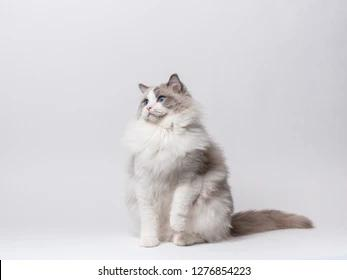ragdoll: (132, 71, 195, 141)
